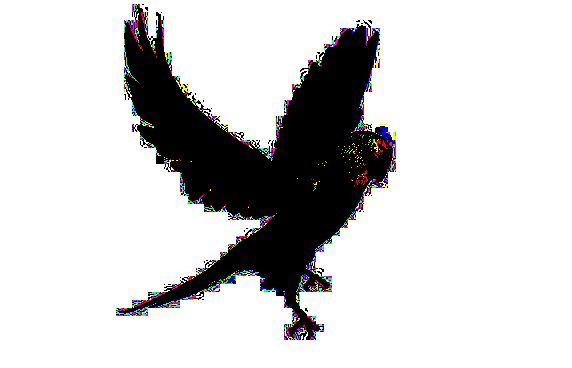Bird: (112, 2, 400, 350)
